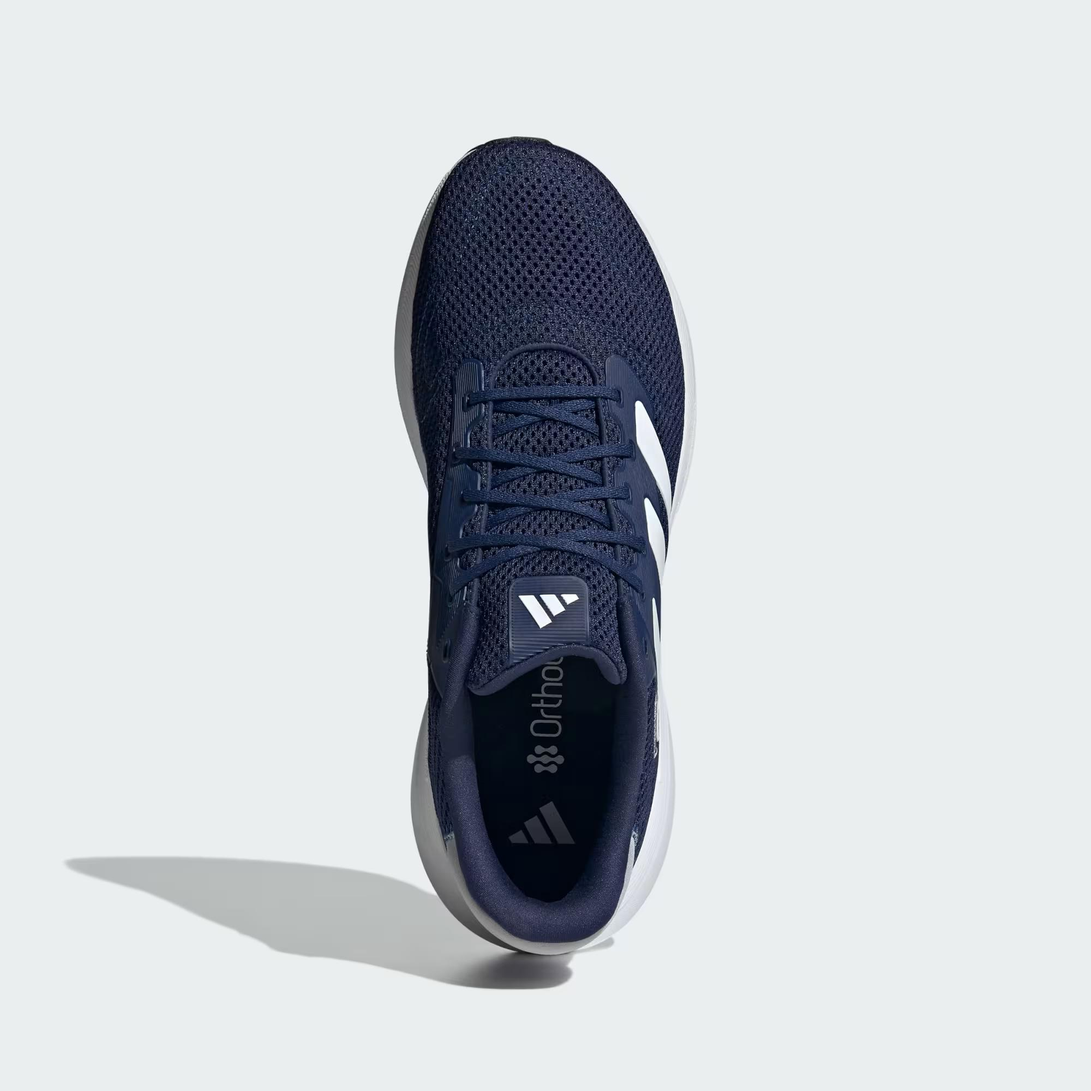marca: (625, 393, 675, 689), (499, 780, 590, 862), (507, 583, 587, 632)
shoe: (396, 133, 693, 969)
